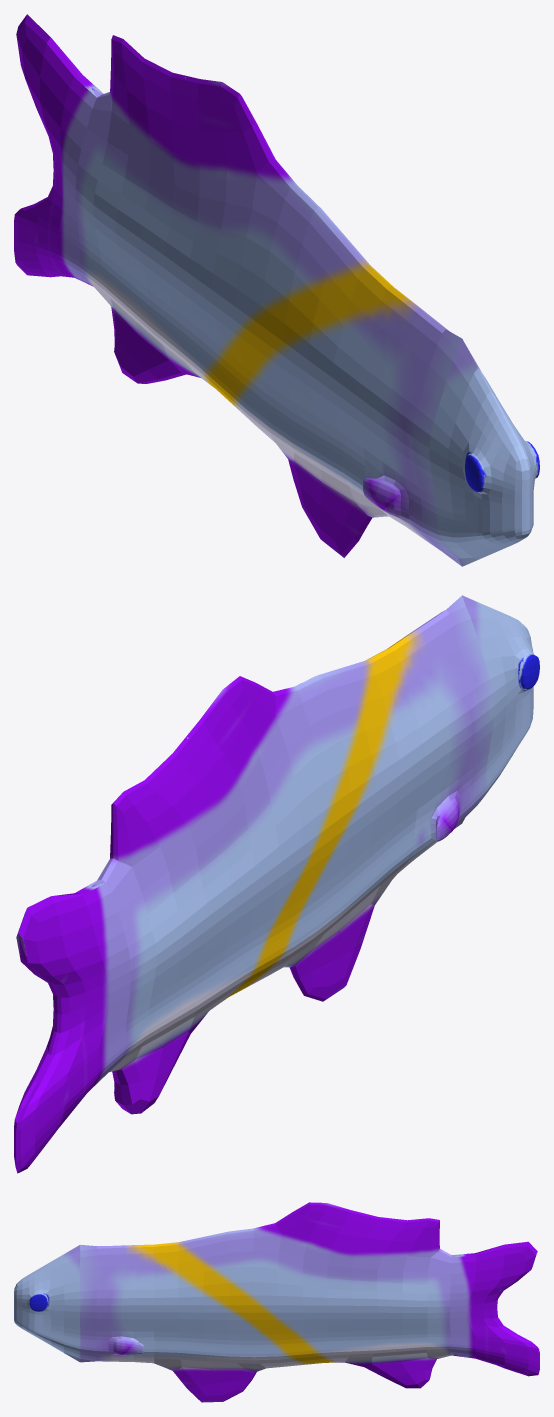
Rendered from fish2.fbx.
3 renders of one model, top to bottom at view 1: azimuth 30°, elevation 25°; view 2: azimuth 150°, elevation 25°; view 3: azimuth 270°, elevation 25°, orthographic. The views are drawn at different scales.
Visible parts, largest first — view 1: Cube.001; view 2: Cube.001; view 3: Cube.001.
Boxes of the visible parts, box(x1,y1,x2,y2) form: Cube.001: box(14, 14, 539, 566); Cube.001: box(14, 595, 539, 1173); Cube.001: box(14, 1202, 539, 1402).
Size of the model in its own units: 13.2 by 62.83 by 150.
Materials: 1 (1 with a texture image).
